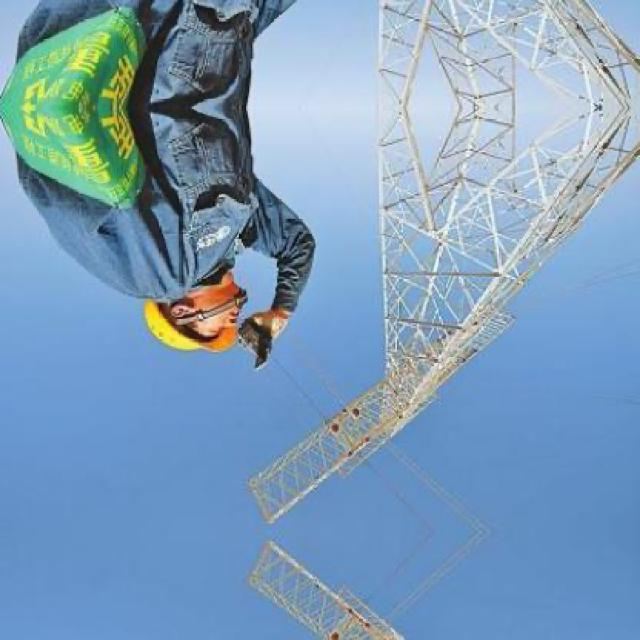con casco: (92, 247, 362, 376)
